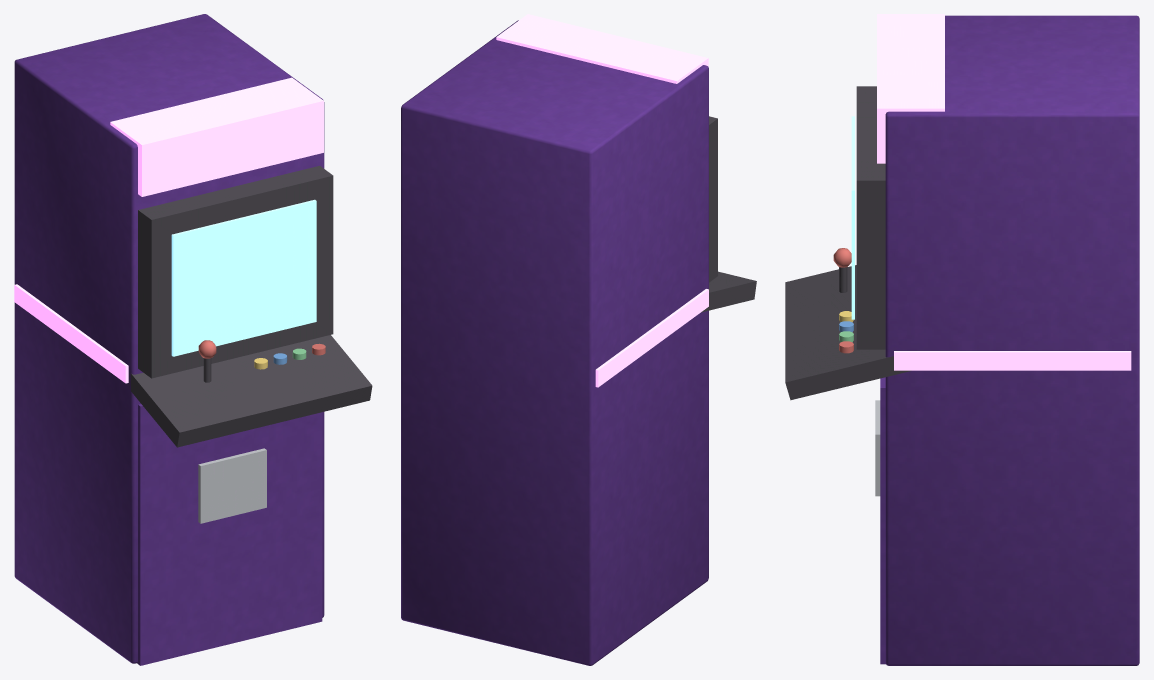
The picture shows the model from 3 angles, left to right: view 1: azimuth 30°, elevation 25°; view 2: azimuth 150°, elevation 25°; view 3: azimuth 270°, elevation 25°; orthographic projection. The views are drawn at different scales.
Visible parts, largest first — view 1: Decor_arcade_cabinet; view 2: Decor_arcade_cabinet; view 3: Decor_arcade_cabinet.
Part boxes in pixels (x1,y1,x2,y2): Decor_arcade_cabinet: (14, 14, 372, 665); Decor_arcade_cabinet: (401, 14, 756, 665); Decor_arcade_cabinet: (785, 14, 1139, 665).
Bounding box in the file's own units: 0.72 × 1.81 × 1.05.
Materials: 6 (6 with a texture image).
